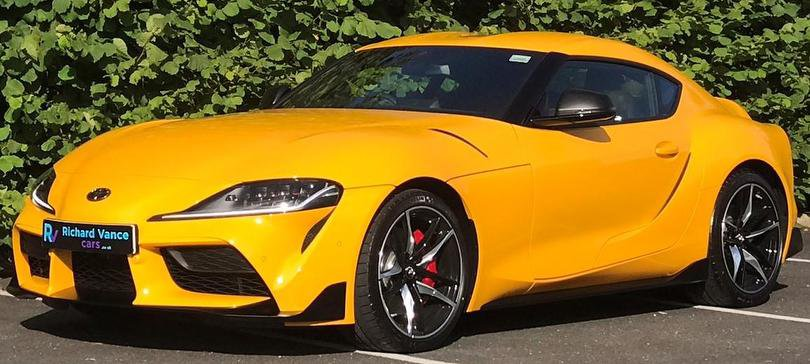car: (15, 33, 800, 350)
